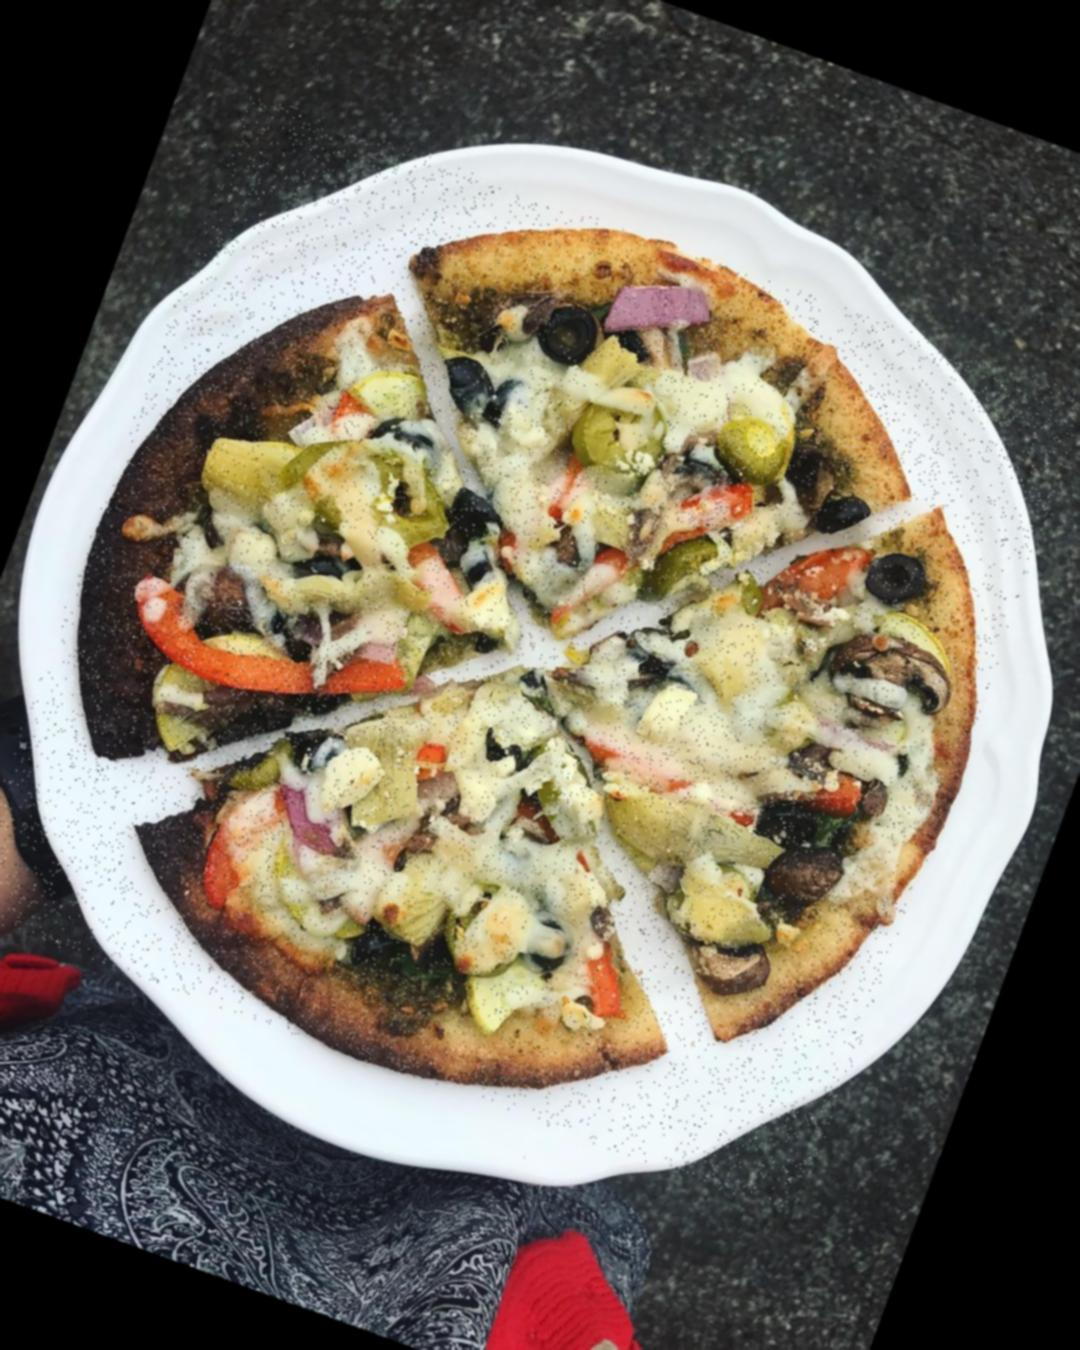Mushroom: (808, 619, 966, 747), (754, 839, 849, 928), (684, 929, 781, 1009)
Olives: (426, 350, 526, 435), (526, 296, 606, 378), (292, 519, 371, 596), (512, 908, 584, 987), (861, 546, 937, 616), (280, 714, 356, 780), (443, 485, 515, 553), (372, 411, 444, 467), (812, 483, 876, 544), (781, 441, 832, 496)
Peppers: (564, 679, 868, 862), (111, 571, 414, 747), (191, 766, 306, 926), (635, 455, 759, 596), (753, 517, 877, 638), (562, 367, 676, 483), (386, 529, 497, 640), (548, 523, 641, 638), (352, 455, 458, 542), (702, 399, 793, 483), (568, 933, 650, 1026), (325, 388, 388, 451)
Pizza: (0, 91, 1080, 1218)
Tomatoes: (406, 736, 451, 778)
